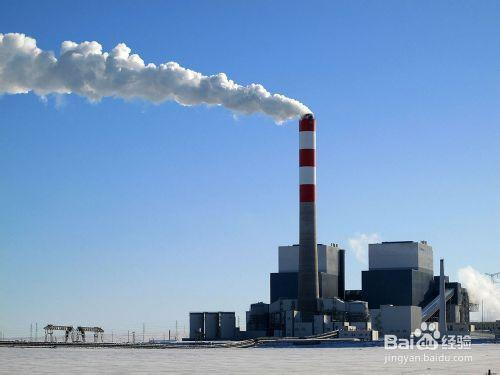dust: (20, 27, 322, 128)
